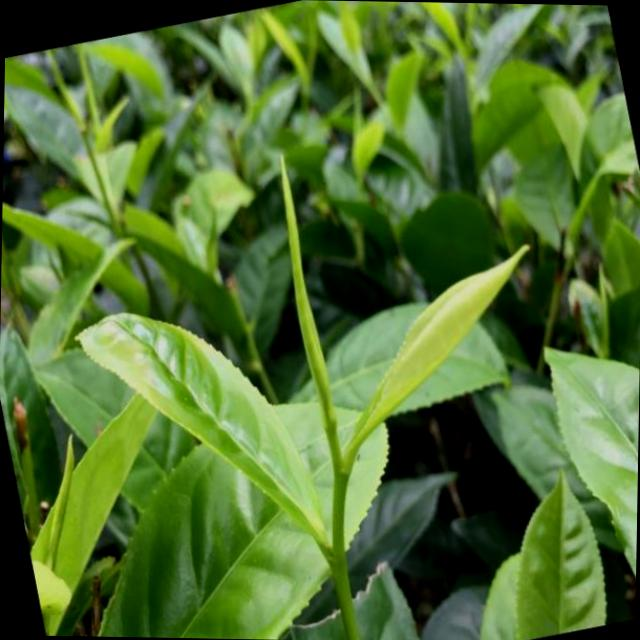Stem: (334, 471, 347, 488)
